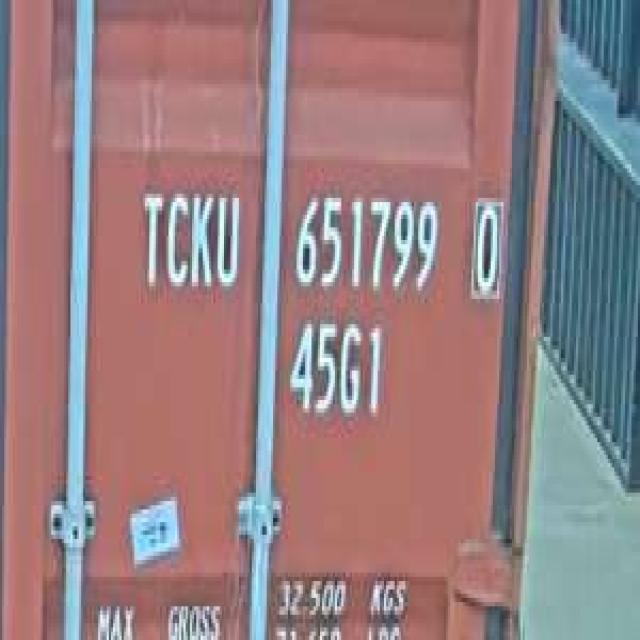dv: (465, 185, 506, 303)
owner: (134, 177, 243, 303)
serial: (286, 181, 444, 303)
size: (284, 307, 386, 434)
